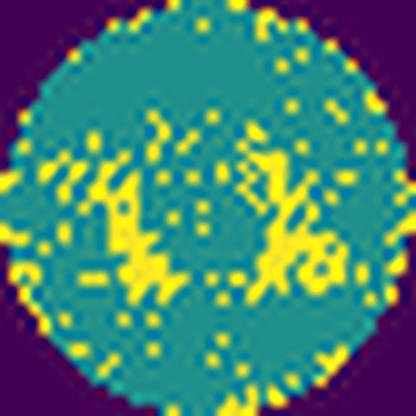Donut: (64, 102, 357, 314)
